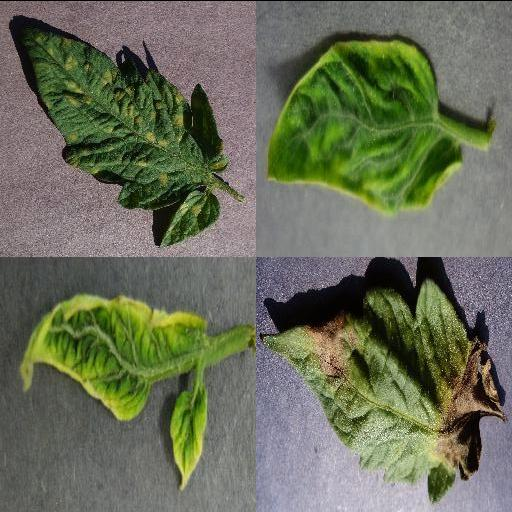Late Blight: (258, 276, 504, 506)
Leaf Mold: (22, 28, 230, 244)
Yellow Leaf Curl Virus: (265, 39, 463, 213), (19, 292, 207, 420), (169, 391, 209, 491)
